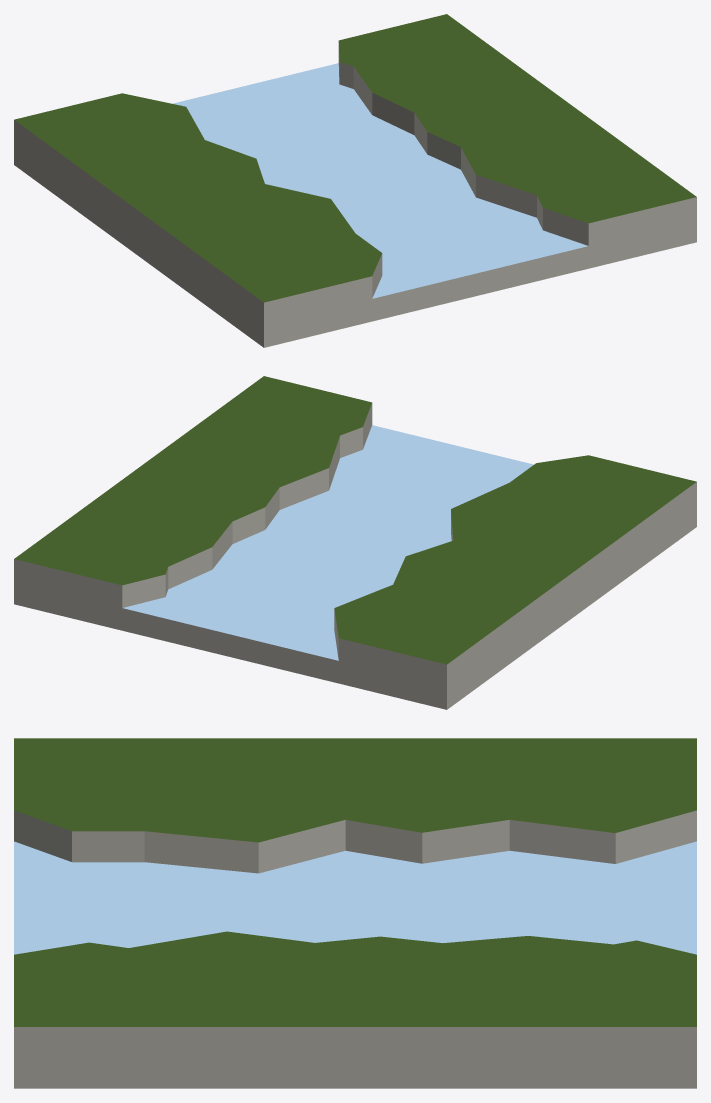
The model's file is Terrain_Modular_Tiles_Grass_Rock_River_Straight_02.fbx.
3 views of the same model, one above another, from view 1: azimuth 30°, elevation 25°; view 2: azimuth 150°, elevation 25°; view 3: azimuth 270°, elevation 25° (orthographic). The views are drawn at different scales.
Parts seen in each view (by area): view 1: Terrain_Modular_Tiles_Grass_Rock_River_Straight_02; view 2: Terrain_Modular_Tiles_Grass_Rock_River_Straight_02; view 3: Terrain_Modular_Tiles_Grass_Rock_River_Straight_02.
Part boxes in pixels (bbox=[...]): Terrain_Modular_Tiles_Grass_Rock_River_Straight_02: bbox=[14, 14, 696, 347]; Terrain_Modular_Tiles_Grass_Rock_River_Straight_02: bbox=[14, 376, 696, 709]; Terrain_Modular_Tiles_Grass_Rock_River_Straight_02: bbox=[14, 738, 696, 1088].
Bounding box in the file's own units: 3000 × 300 × 3000.
